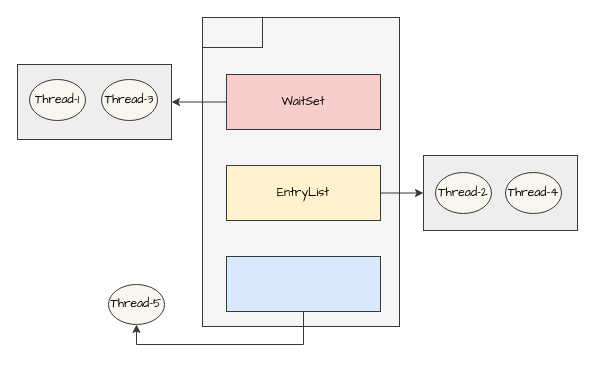
This 595x370 diagram has some shape labels left out. The shapes that lost their labels are listed below. From the top down, each one's centre as x and y in pixels, then its label:
[232,32]: Monitor
[303,284]: Owner
